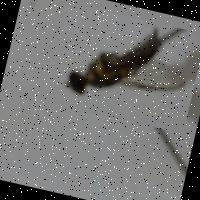Oriental-fruit-fly: (45, 1, 200, 132)
